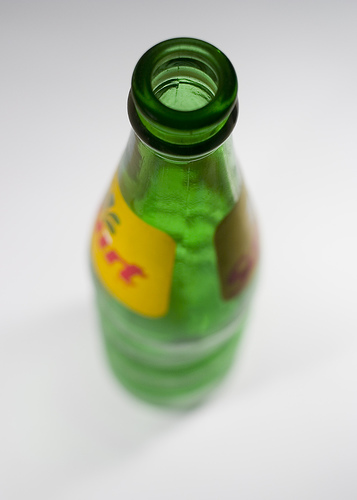emptybottle: (90, 37, 260, 411)
